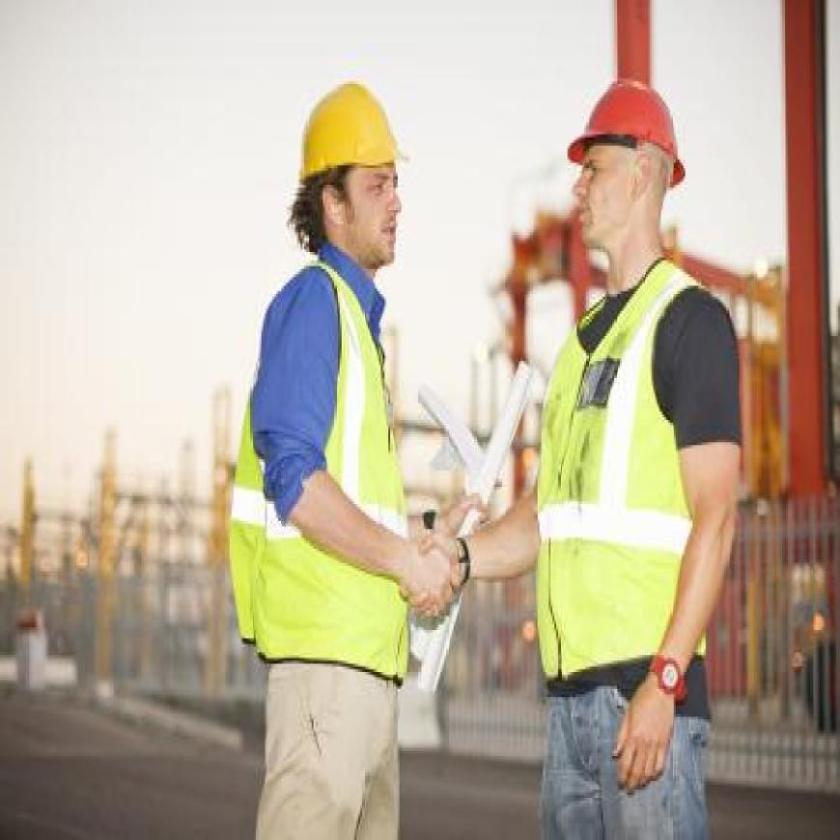Con_casco: (566, 75, 689, 303), (292, 79, 419, 298)
